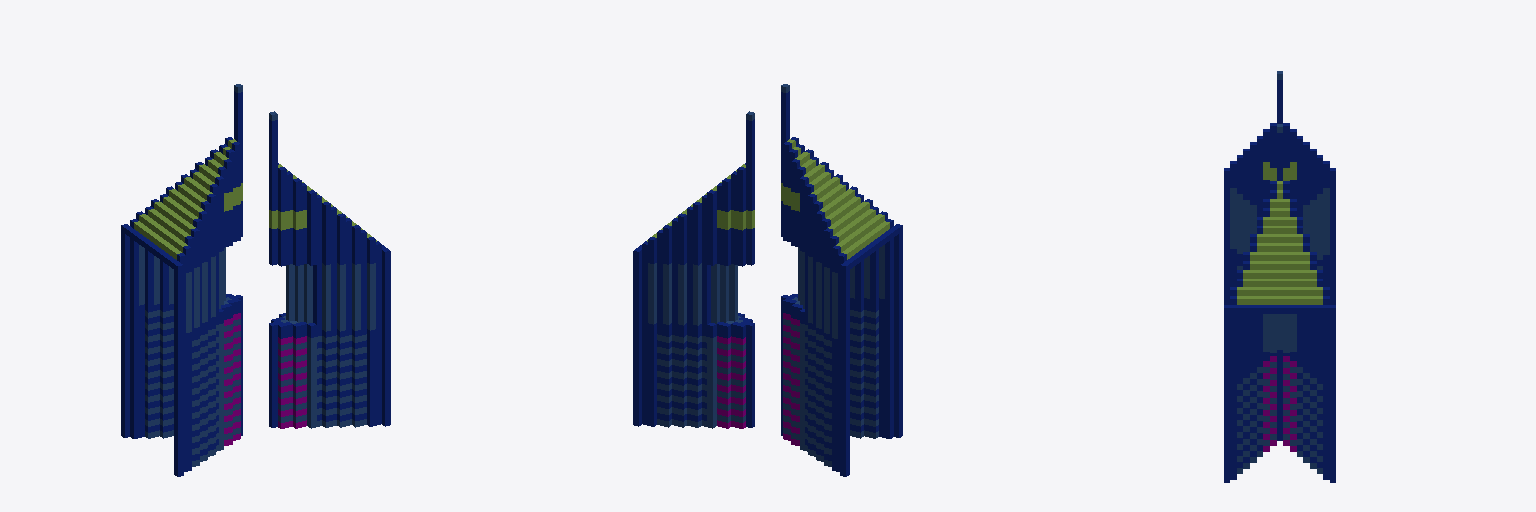
3 views of the same model, side by side, from view 1: azimuth 30°, elevation 25°; view 2: azimuth 150°, elevation 25°; view 3: azimuth 270°, elevation 25° (orthographic).
Parts seen in each view (by area): view 1: object 1; view 2: object 1; view 3: object 1.
Part boxes in pixels (x1,y1,x2,y2): object 1: (121, 84, 390, 476); object 1: (633, 84, 902, 476); object 1: (1224, 71, 1335, 482).
Bounding box in the file's own units: 7.4 × 11.6 × 3.4.
Materials: 1 (1 with a texture image).